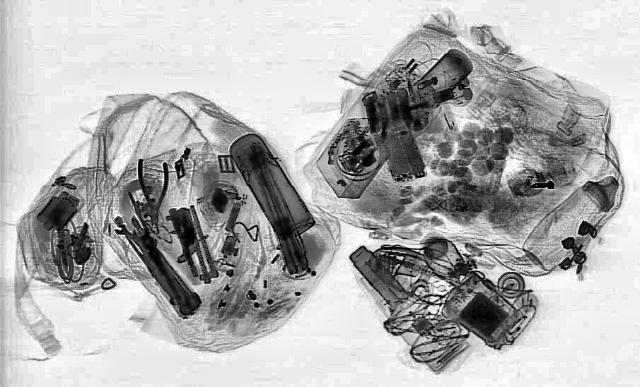Pliers: (134, 159, 170, 233)
